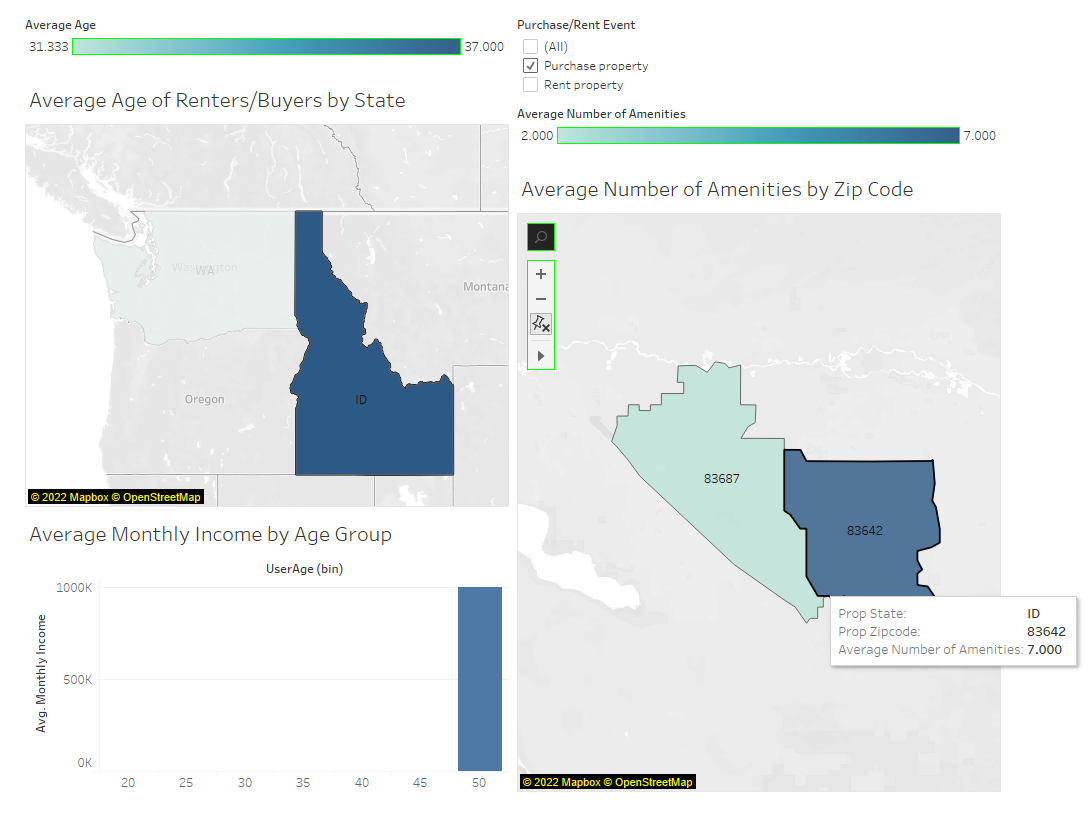

What the dashboard file says about the page in this screenshot:
{"tool":"tableau","page":{"name":"Amentities and Income by Age and Geography","canvas":[1000,800],"ordinal":0},"visuals":[{"type":"legend","title":"Average Age of Renters/Buyers by State","param":"[federated.0io1pn01axl5lf18k7qi51slx2se].[usr:Calculation_755478846059814912:qk]","box":[8,8,492,65]},{"type":"filter","title":"Average Age of Renters/Buyers by State","param":"[federated.0io1pn01axl5lf18k7qi51slx2se].[none:Calculation_1086211944790011904:n","box":[500,8,492,89]},{"type":"worksheet","title":"Average Age of Renters/Buyers by State","mark":"Multipolygon","box":[8,73,492,434]},{"type":"legend","title":"Average Number of Amenities by Zip Code","param":"[federated.0io1pn01axl5lf18k7qi51slx2se].[usr:Calculation_755478846069432321:qk]","box":[500,97,492,65]},{"type":"worksheet","title":"Average Number of Amenities by Zip Code","mark":"Automatic","box":[500,162,492,630]},{"type":"worksheet","title":"Average Monthly Income by Age Group","mark":"Automatic","rows":["MonthlyIncome"],"cols":["UserAge (bin)"],"box":[8,507,492,285]}]}

Visuals, with their boxes on the page's 1000x800 design canvas (x1, y1, x2, y2). These are canvas units, not pixel positions in the 1091x821 screenshot, which may show the page scaled, cropped or inside an application window:
"Average Age of Renters/Buyers by State" legend: 8, 8, 500, 73
"Average Age of Renters/Buyers by State" filter: 500, 8, 992, 97
"Average Age of Renters/Buyers by State" worksheet (Multipolygon marks): 8, 73, 500, 507
"Average Number of Amenities by Zip Code" legend: 500, 97, 992, 162
"Average Number of Amenities by Zip Code" worksheet: 500, 162, 992, 792
"Average Monthly Income by Age Group" worksheet: 8, 507, 500, 792
